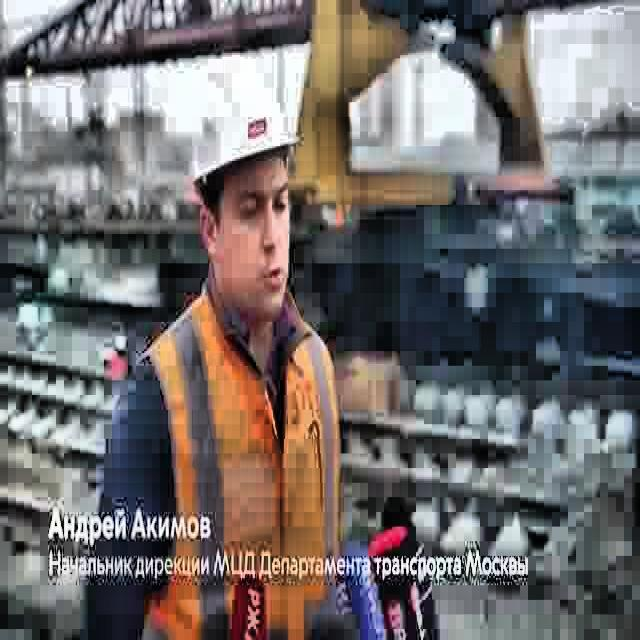safety_helmet: (192, 58, 300, 189)
safety_jacket: (142, 276, 342, 640)
